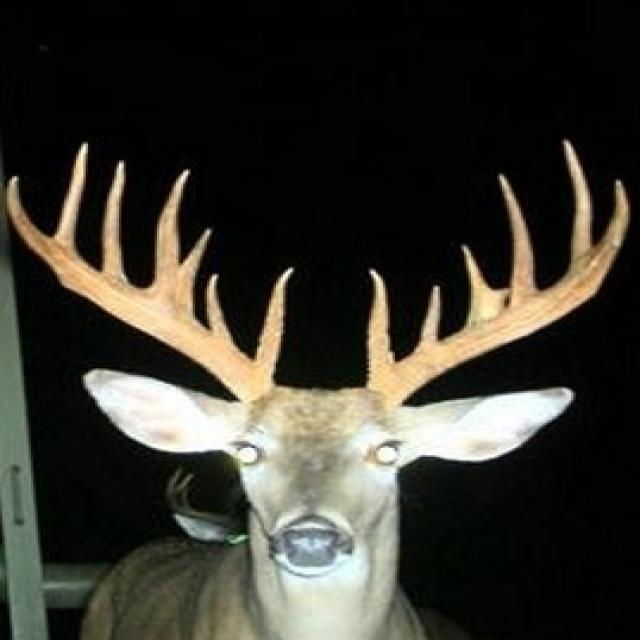E1: (180, 226, 213, 279)
E2: (153, 166, 193, 272)
E3: (459, 242, 494, 297)
L-F: (365, 177, 631, 409)
L-G1: (364, 265, 396, 378)
L-G2: (416, 283, 444, 349)
L-G4: (494, 170, 539, 308)
L-G5: (560, 136, 595, 266)
R-G1: (254, 263, 297, 379)
R-G2: (204, 273, 234, 342)
R-G3: (101, 158, 130, 283)
R-G4: (5, 174, 275, 404), (51, 141, 90, 251)
